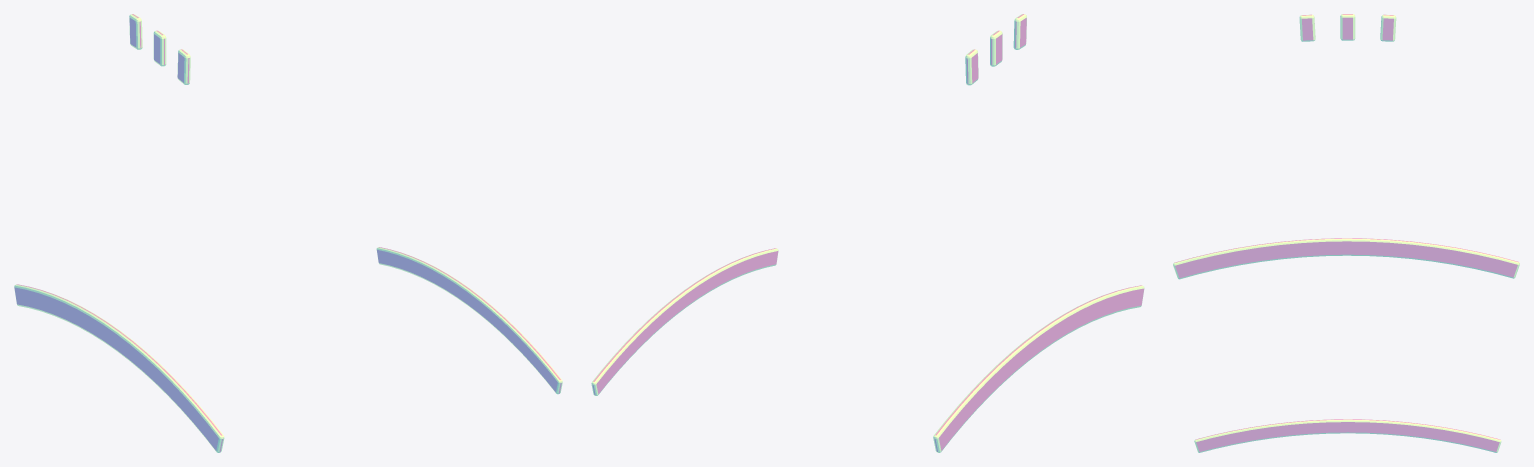
File: SM_ShieldSegmentGlow.fbx
3 views of the same model, side by side, from view 1: azimuth 30°, elevation 25°; view 2: azimuth 150°, elevation 25°; view 3: azimuth 270°, elevation 25° (orthographic). The views are drawn at different scales.
Parts seen in each view (by area): view 1: SM_ShieldSegmentGlow; view 2: SM_ShieldSegmentGlow; view 3: SM_ShieldSegmentGlow.
Part boxes in pixels (bbox=[...]): SM_ShieldSegmentGlow: bbox=[14, 14, 562, 452]; SM_ShieldSegmentGlow: bbox=[591, 14, 1144, 452]; SM_ShieldSegmentGlow: bbox=[1173, 14, 1519, 452].
Bounding box in the file's own units: 12.06 × 11.99 × 11.95.
